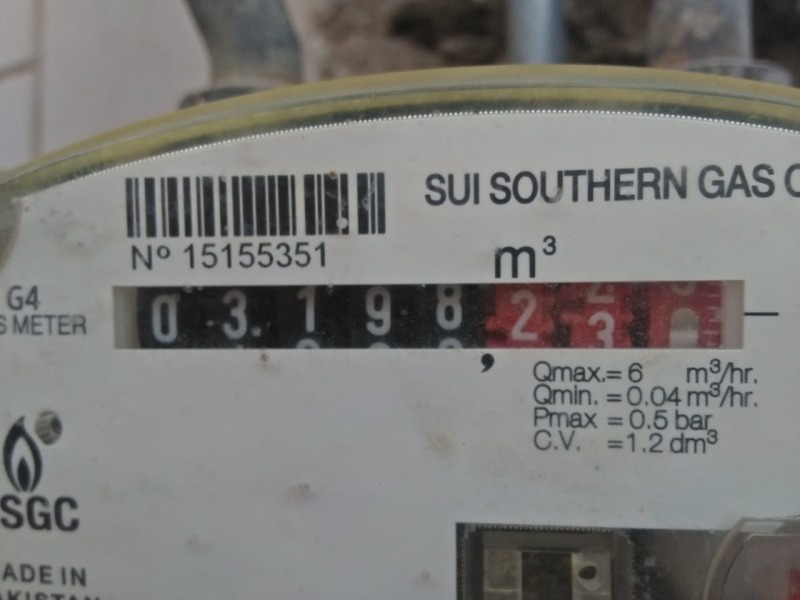ssgc: (105, 280, 734, 354)
